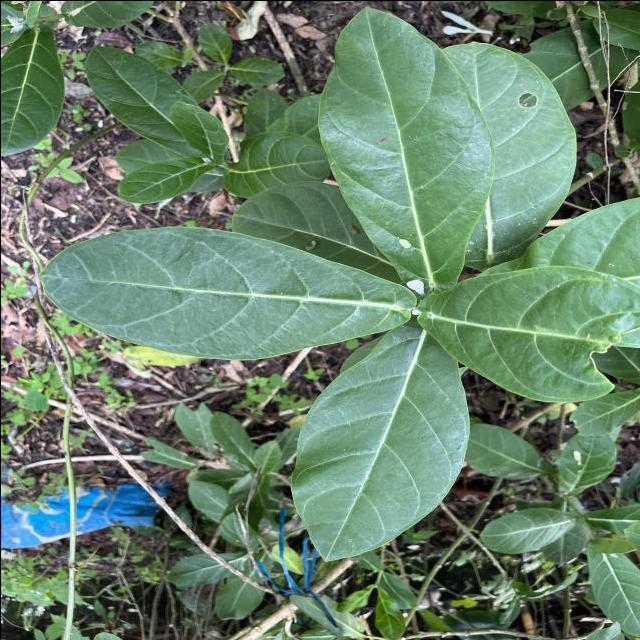Calotropis gigantea: (37, 222, 417, 363), (318, 6, 497, 290), (286, 326, 473, 564), (464, 38, 579, 266), (82, 42, 194, 158), (0, 20, 66, 157), (583, 538, 640, 637), (462, 422, 550, 481), (115, 155, 215, 204), (478, 505, 577, 554), (555, 432, 616, 495)
